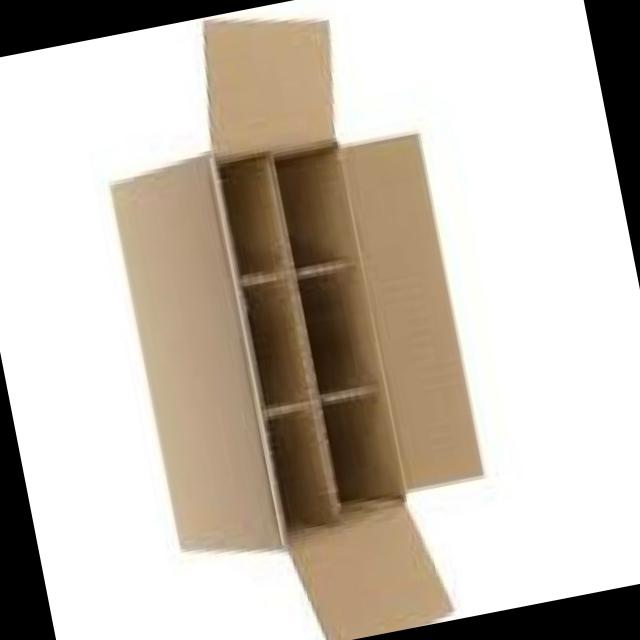cardboard paper: (114, 19, 484, 640)
